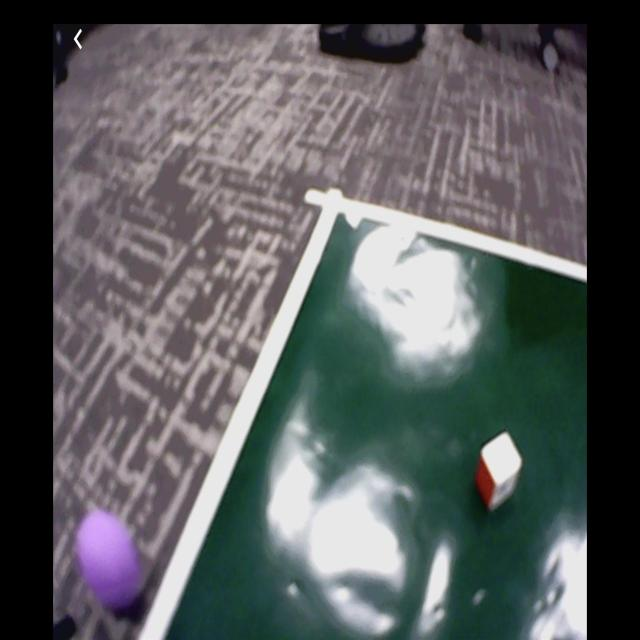ball: (81, 512, 144, 608)
